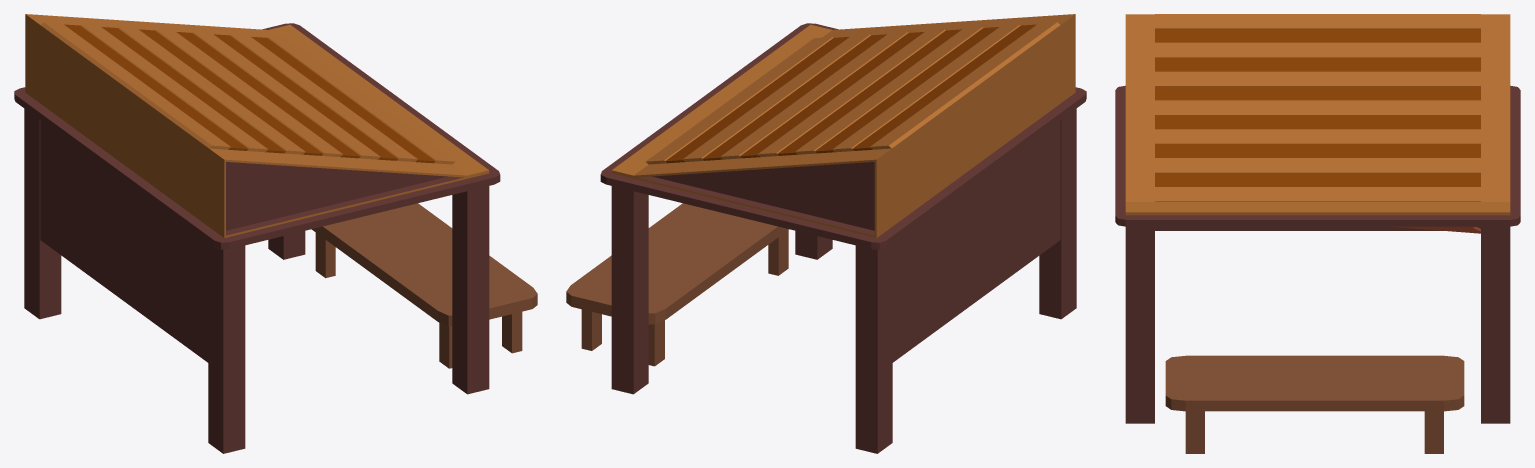
The model's file is armeria.fbx.
3 renders of one model, left to right at view 1: azimuth 30°, elevation 25°; view 2: azimuth 150°, elevation 25°; view 3: azimuth 270°, elevation 25°, orthographic. The views are drawn at different scales.
Visible parts, largest first — view 1: caseta_armeria, mostrador; view 2: caseta_armeria, mostrador; view 3: caseta_armeria, mostrador.
Part boxes in pixels (<box>): caseta_armeria: <box>14,14,500,453</box>; mostrador: <box>312,203,537,368</box>; caseta_armeria: <box>600,14,1086,453</box>; mostrador: <box>566,203,788,366</box>; caseta_armeria: <box>1115,14,1520,423</box>; mostrador: <box>1165,355,1464,453</box>.
Size of the model in its own units: 621 by 503 by 645.
